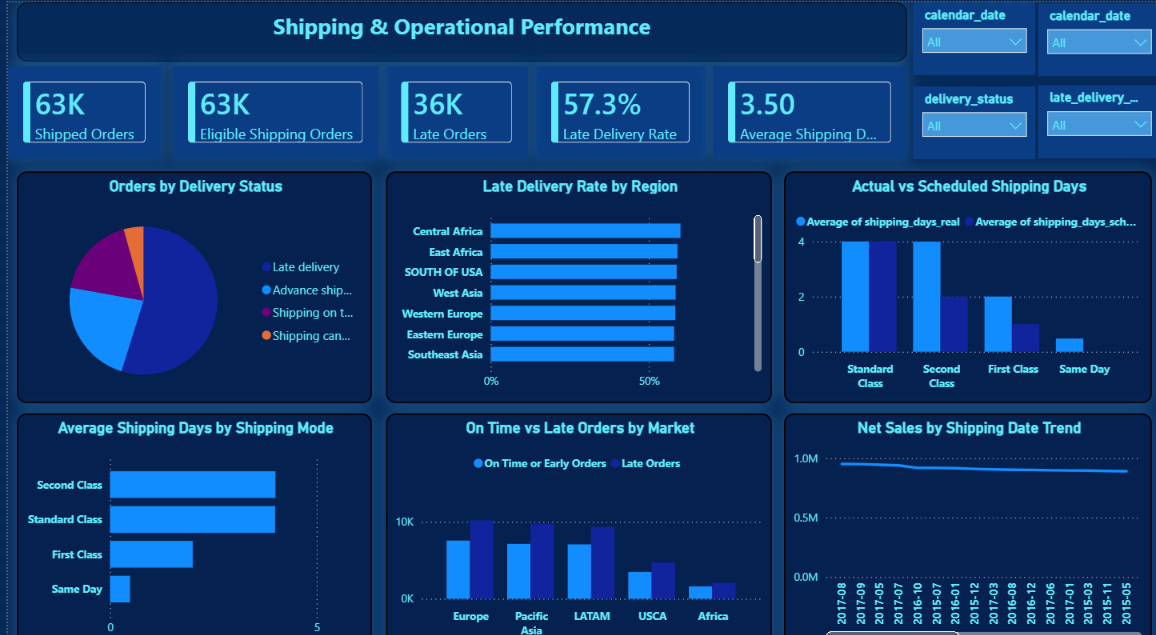

This screenshot's page, from the dashboard's own definition file:
{"tool":"powerbi","page":{"name":"Shipping & Operational Performance","canvas":[1280,720],"ordinal":3},"visuals":[{"type":"textbox","box":[10,0,988.9,65.6],"z":0},{"type":"cardVisual","fields":{"Data":["FactOrders.Shipped Orders"]},"box":[0,71.1,170,102.2],"z":1},{"type":"cardVisual","fields":{"Data":["FactOrders.Late Delivery Rate"]},"box":[586.7,71.1,188.9,102.2],"z":2},{"type":"cardVisual","fields":{"Data":["FactOrders.Late Orders"]},"box":[420,71.1,157.8,102.2],"z":3},{"type":"cardVisual","fields":{"Data":["FactOrders.Eligible Shipping Orders"]},"box":[183.3,71.1,228.9,102.2],"z":4},{"type":"cardVisual","fields":{"Data":["FactOrders.Average Shipping Days"]},"box":[783.3,71.1,215.6,102.2],"z":5},{"type":"slicer","fields":{"Values":["DimDate.calendar_date"]},"box":[1005.6,0,136.4,81.2],"z":6},{"type":"slicer","fields":{"Values":["FactOrders.delivery_status"]},"box":[1005.6,93.3,136.4,81.2],"z":7},{"type":"slicer","fields":{"Values":["FactOrders.late_delivery_risk"]},"box":[1144.4,92.2,136.4,81.2],"z":8},{"type":"slicer","fields":{"Values":["DimDate.calendar_date"]},"box":[1144.4,1.1,136.4,81.2],"z":9},{"type":"pieChart","title":"Orders by Delivery Status","fields":{"Category":["FactOrders.delivery_status"],"Y":["FactOrders.Total Orders"]},"box":[10,187.8,394.4,257.8],"z":10},{"type":"clusteredBarChart","title":"Average Shipping Days by Shipping Mode","fields":{"Category":["FactOrders.shipping_mode"],"Y":["FactOrders.Average Shipping Days"]},"box":[10,456.7,394.4,262.2],"z":11},{"type":"clusteredBarChart","title":"Late Delivery Rate by Region","fields":{"Category":["FactOrders.order_region"],"Y":["FactOrders.Late Delivery Rate"]},"box":[420,187.8,428.9,257.8],"z":12},{"type":"clusteredColumnChart","title":"On Time vs Late Orders by Market","fields":{"Y":["FactOrders.On Time or Early Orders","FactOrders.Late Orders"],"Category":["FactOrders.order_market"]},"box":[420,456.7,428.9,263.3],"z":13},{"type":"clusteredColumnChart","title":"Actual vs Scheduled Shipping Days","fields":{"Category":["FactOrders.shipping_mode"],"Y":["Avg(FactOrders.shipping_days_real)","Avg(FactOrders.shipping_days_scheduled)"]},"box":[862.2,187.8,408.9,257.8],"z":14},{"type":"lineChart","title":"Net Sales by Shipping Date Trend","fields":{"Category":["DimDate.year_month"],"Y":["FactOrders.Net Sales by Shipping Date"]},"box":[862.2,456.7,408.9,262.2],"z":15}]}

Visuals, with their boxes in screenshot pixels (x1, y1, x2, y2), scaled from the page's 1280x720 canvas onto the 1156x635 screenshot:
textbox: <bbox>9, 0, 902, 58</bbox>
cardVisual - FactOrders.Shipped Orders: <bbox>0, 63, 154, 153</bbox>
cardVisual - FactOrders.Late Delivery Rate: <bbox>530, 63, 700, 153</bbox>
cardVisual - FactOrders.Late Orders: <bbox>379, 63, 522, 153</bbox>
cardVisual - FactOrders.Eligible Shipping Orders: <bbox>166, 63, 372, 153</bbox>
cardVisual - FactOrders.Average Shipping Days: <bbox>707, 63, 902, 153</bbox>
slicer - DimDate.calendar_date: <bbox>908, 0, 1031, 72</bbox>
slicer - FactOrders.delivery_status: <bbox>908, 82, 1031, 154</bbox>
slicer - FactOrders.late_delivery_risk: <bbox>1034, 81, 1155, 153</bbox>
slicer - DimDate.calendar_date: <bbox>1034, 1, 1155, 73</bbox>
"Orders by Delivery Status" pieChart: <bbox>9, 166, 365, 393</bbox>
"Average Shipping Days by Shipping Mode" clusteredBarChart: <bbox>9, 403, 365, 634</bbox>
"Late Delivery Rate by Region" clusteredBarChart: <bbox>379, 166, 767, 393</bbox>
"On Time vs Late Orders by Market" clusteredColumnChart: <bbox>379, 403, 767, 634</bbox>
"Actual vs Scheduled Shipping Days" clusteredColumnChart: <bbox>779, 166, 1148, 393</bbox>
"Net Sales by Shipping Date Trend" lineChart: <bbox>779, 403, 1148, 634</bbox>
